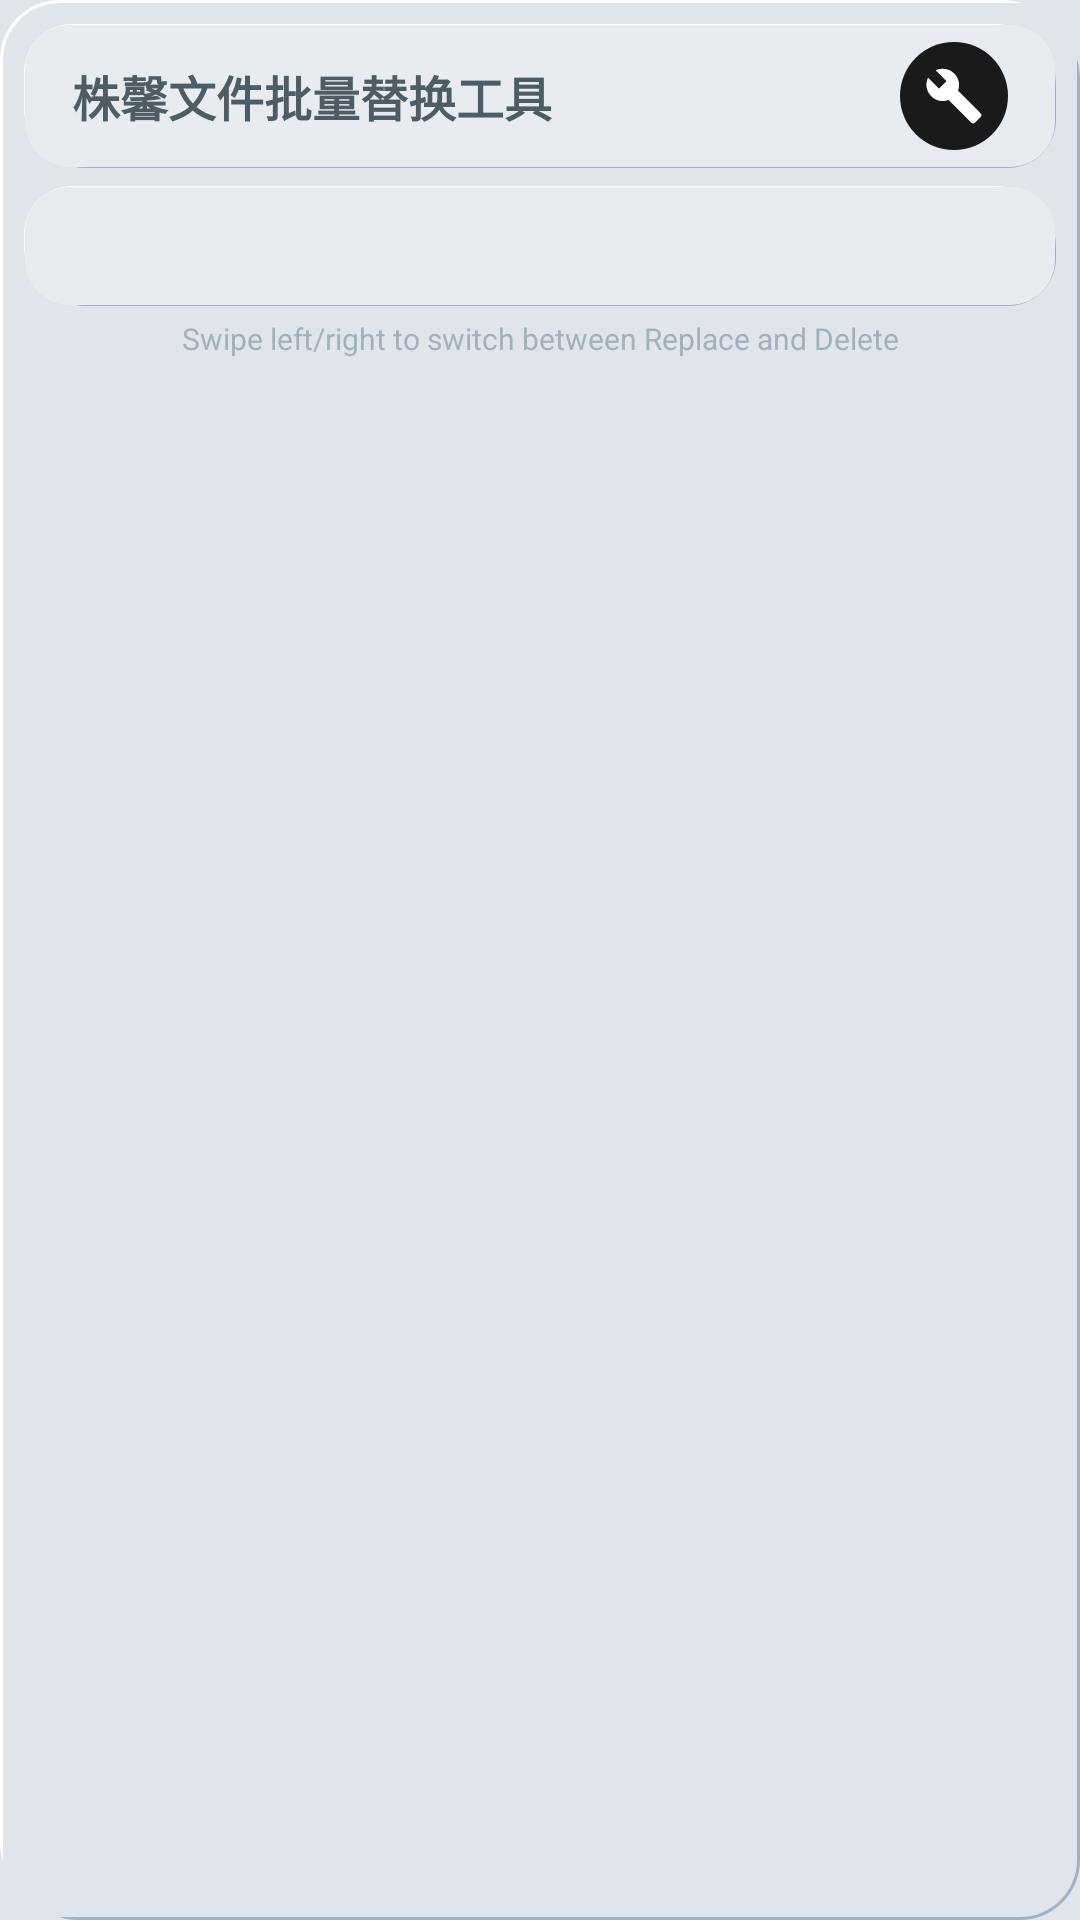

Icon click points for this 1080*1920 phone screenshot, format point (x, y):
Settings: point (954, 96)
